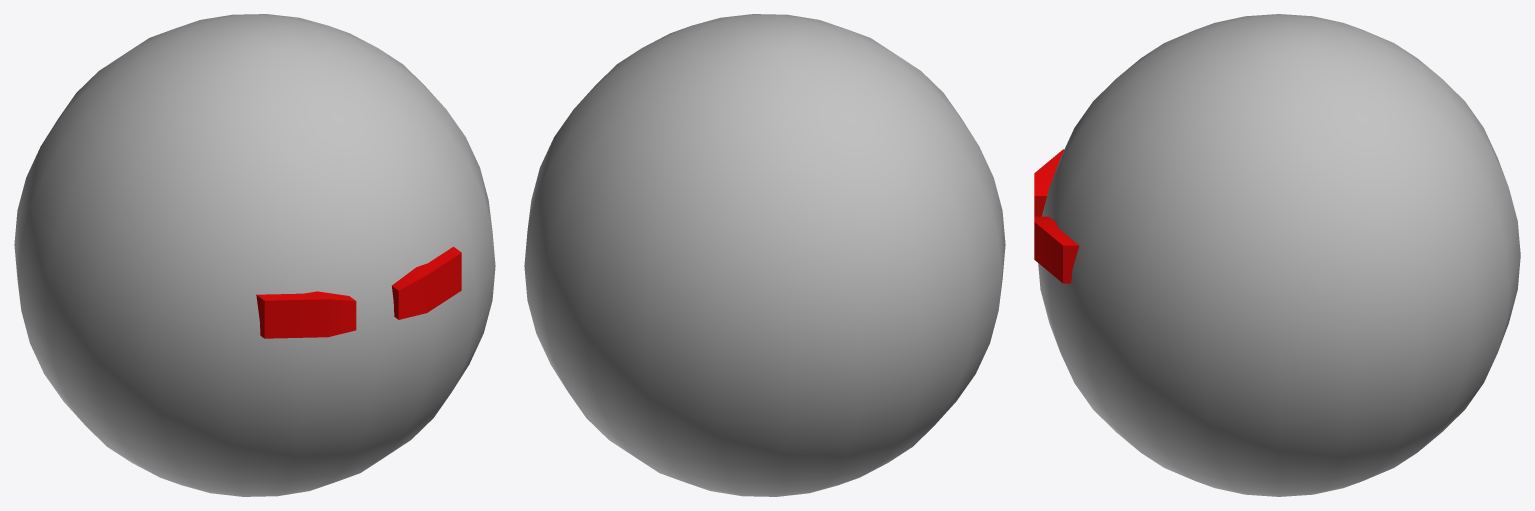
Rendered from enemy_sniper.fbx.
3 renders of one model, left to right at view 1: azimuth 30°, elevation 25°; view 2: azimuth 150°, elevation 25°; view 3: azimuth 270°, elevation 25°, orthographic.
Visible parts, largest first — view 1: pSphere1, pCube1; view 2: pSphere1; view 3: pSphere1, pCube1.
Boxes of the visible parts, x1,y1,x2,y2 form: pSphere1: [14, 14, 495, 496]; pCube1: [256, 246, 461, 338]; pSphere1: [524, 14, 1005, 496]; pSphere1: [1038, 14, 1520, 496]; pCube1: [1034, 149, 1079, 283].
Bounding box in the file's own units: 2 × 2 × 2.01.
